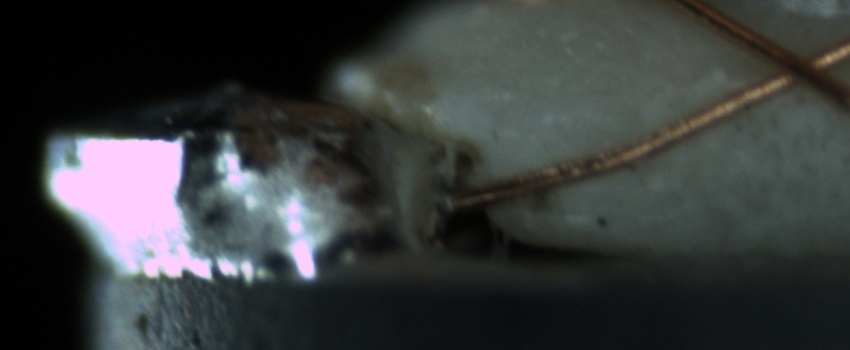CL: (750, 31, 844, 97)
